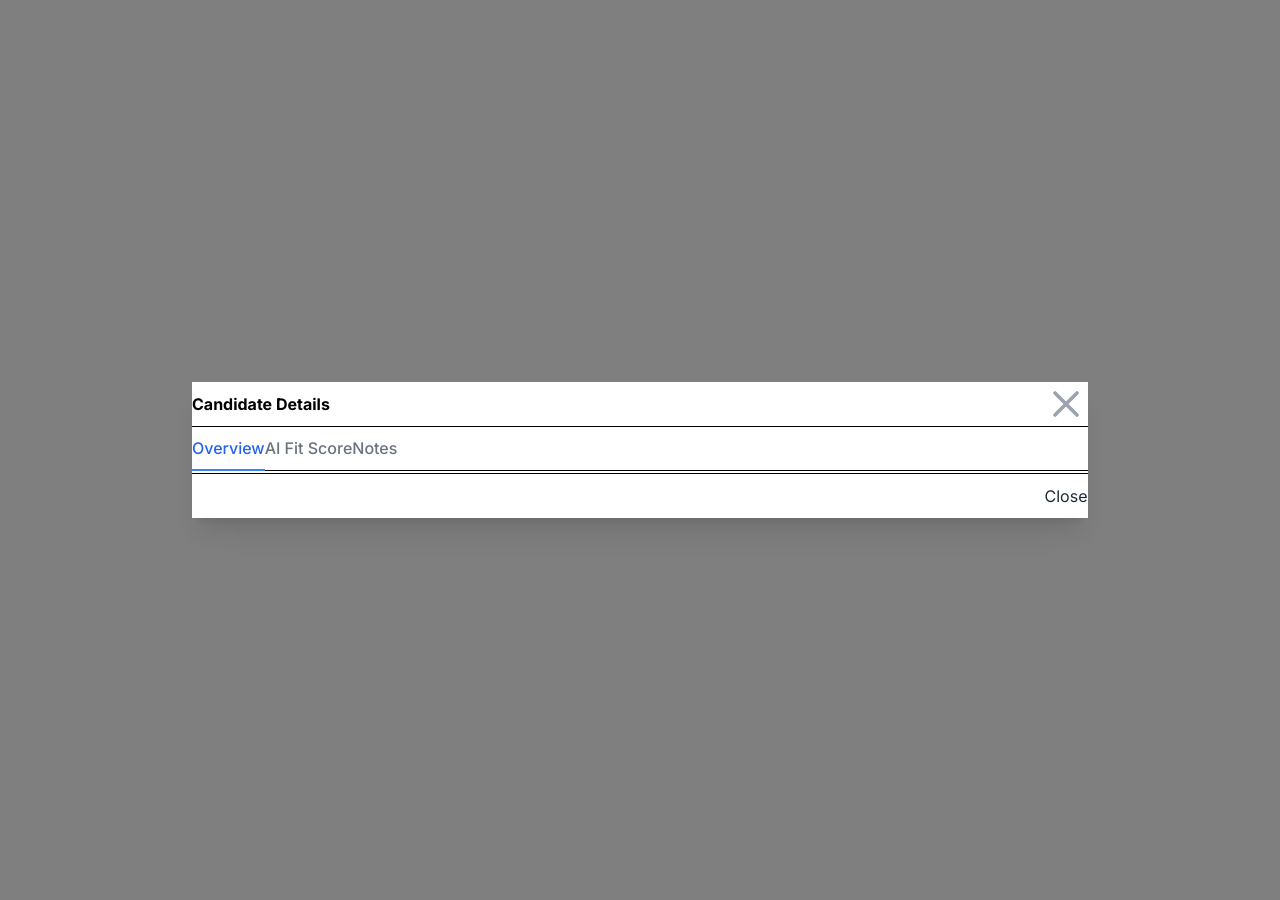
CandidateDetailModal Component › Fit Score Tab Content › should display score breakdown section
Click the button "AI Fit Score": x=308, y=449 [265,427,352,471]
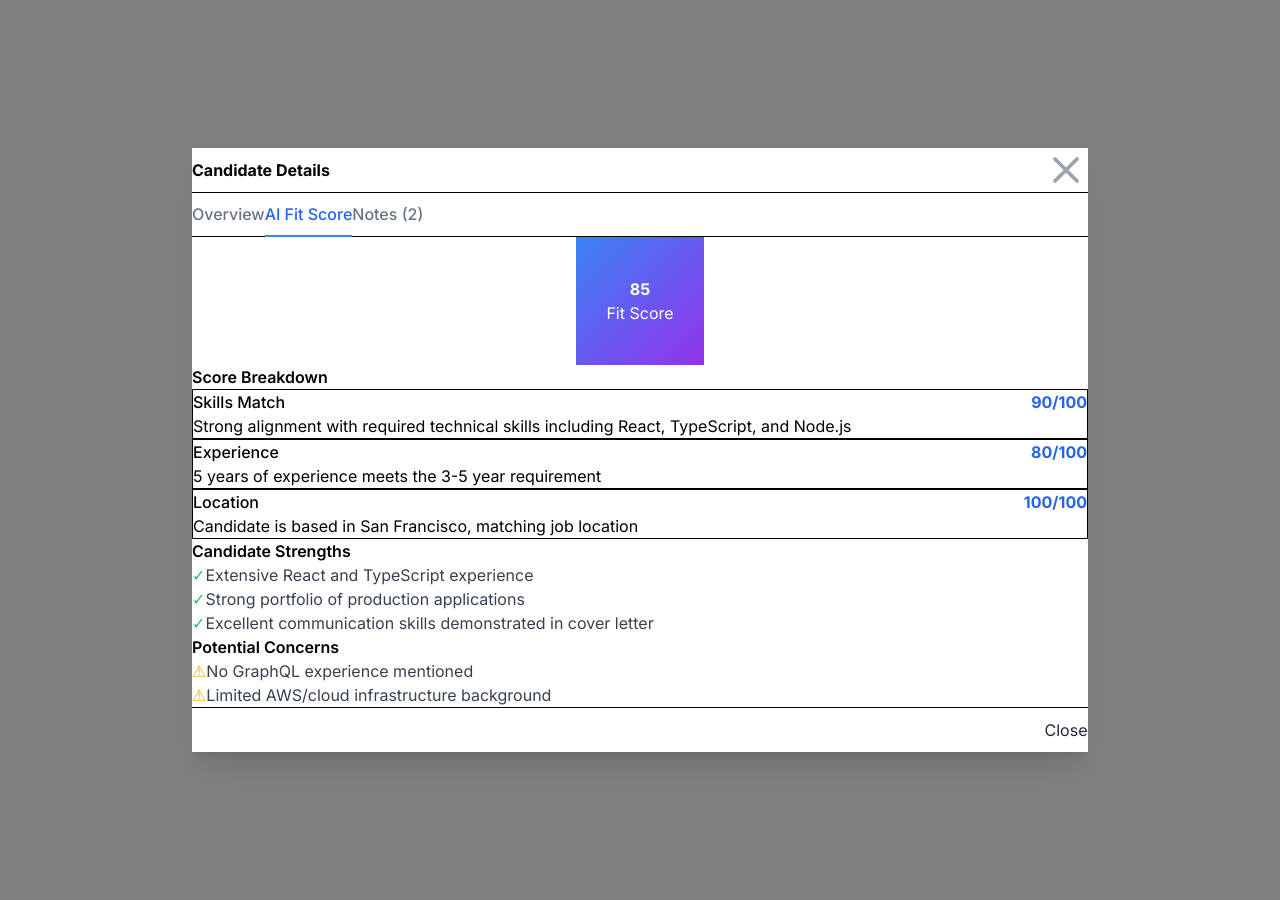
Expected: the heading "Score Breakdown" is shown, [192,367,328,387]
